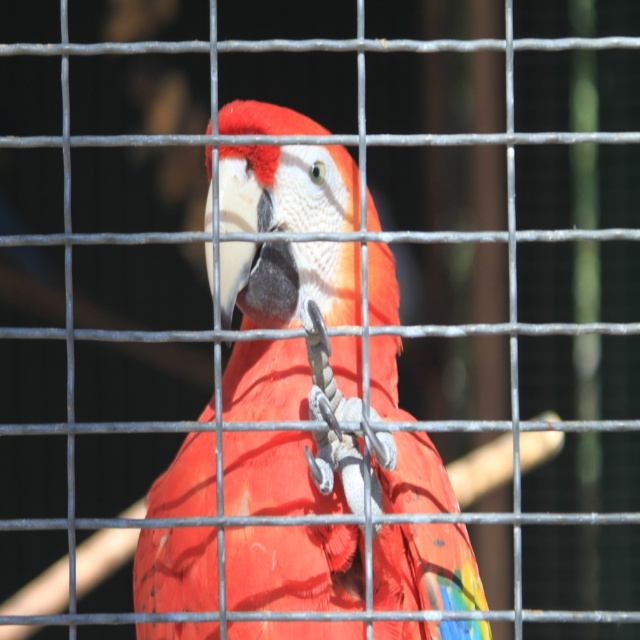Parrot: (132, 99, 493, 640)
